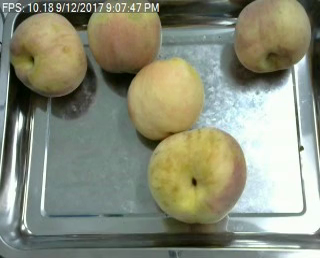Peach: (148, 126, 247, 224), (8, 11, 89, 97), (125, 57, 203, 137), (232, 0, 312, 74), (90, 0, 163, 71)
